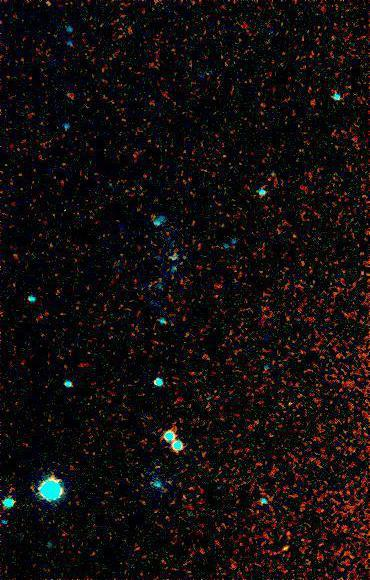star: (272, 534, 302, 564)
